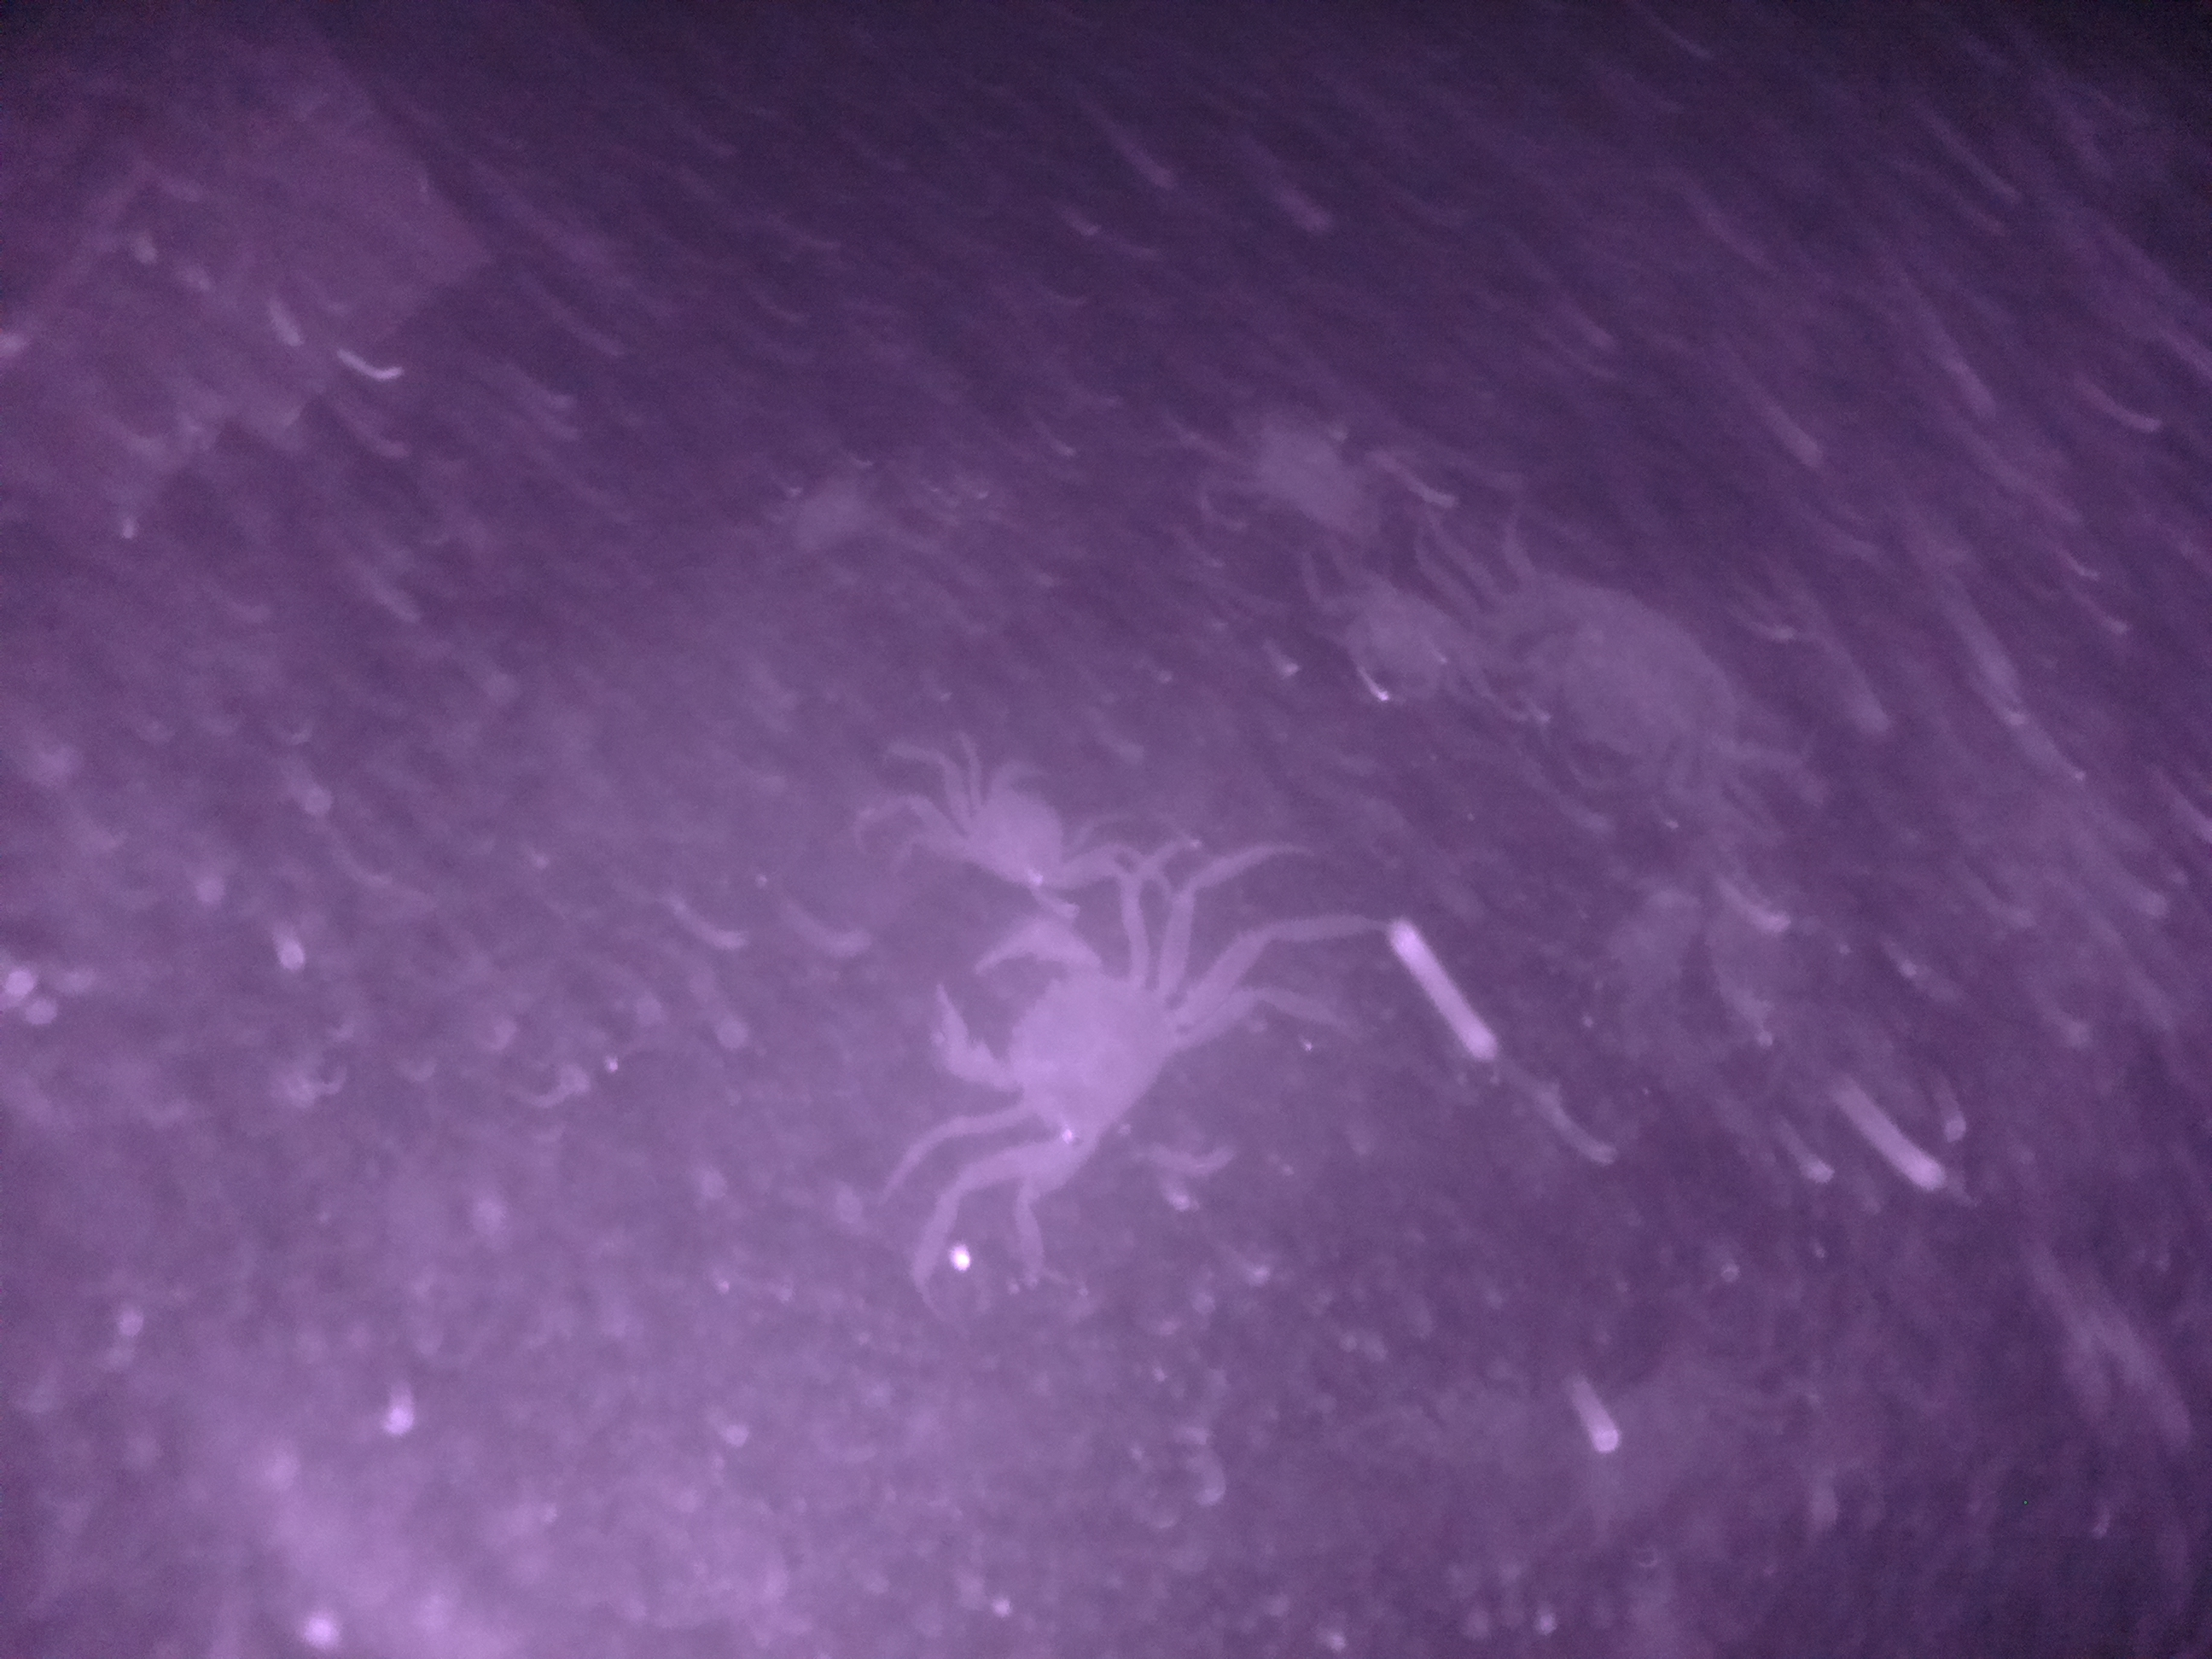Crab: (899, 892, 1217, 1175), (913, 734, 1125, 920)
